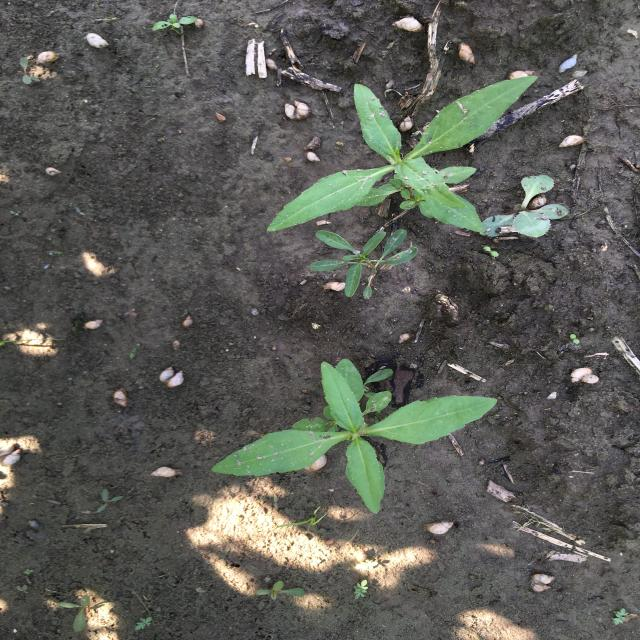Eclipta: (208, 357, 501, 515), (264, 74, 540, 235)
Waterhemp: (305, 229, 423, 301)
